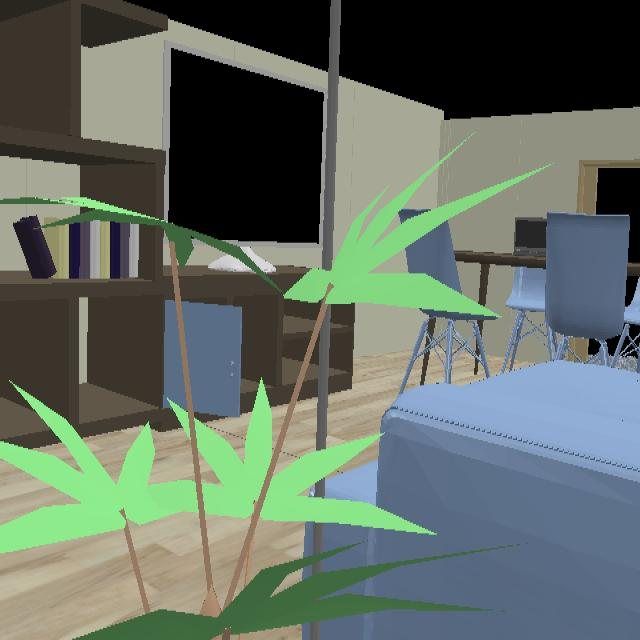book: (12, 216, 164, 280)
bookshelf: (0, 203, 186, 451), (178, 264, 322, 419)
chair: (501, 212, 640, 373), (405, 221, 462, 293), (444, 320, 491, 385), (400, 320, 434, 396)
laptop: (514, 217, 546, 259)
monitor: (167, 48, 323, 243)
sofa: (300, 361, 640, 640)
table: (455, 249, 546, 307), (421, 319, 448, 351), (479, 321, 487, 343), (629, 263, 640, 277)
